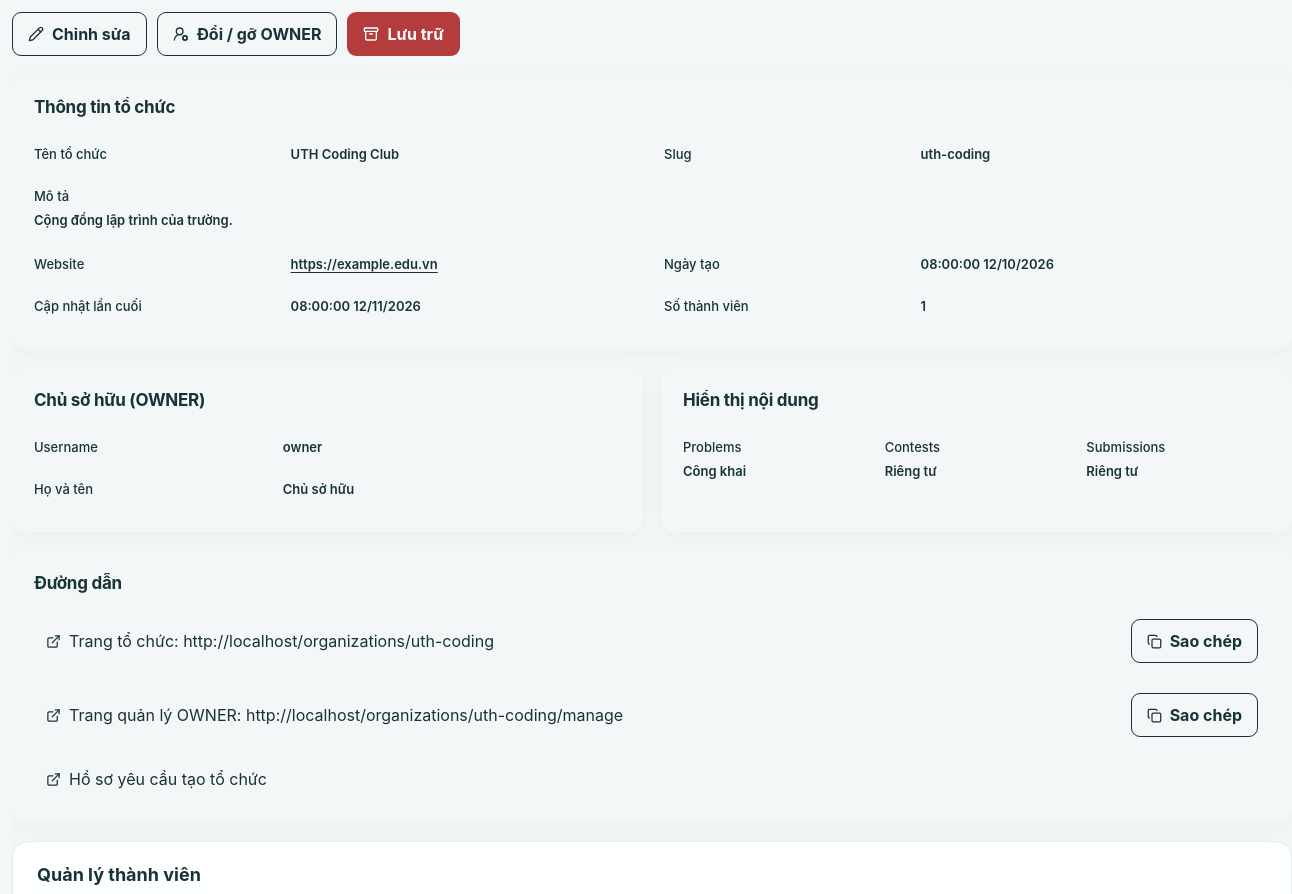
Test case: AdminOrganizationDetailPage › renders organization data and sections without the specified header and guidance text
Expected: the heading "Thông tin tổ chức" is shown, [34, 97, 175, 117]
Click the button "Sao chép" in the row of "Trang tổ chức": (1194, 641) [1131, 619, 1258, 663]
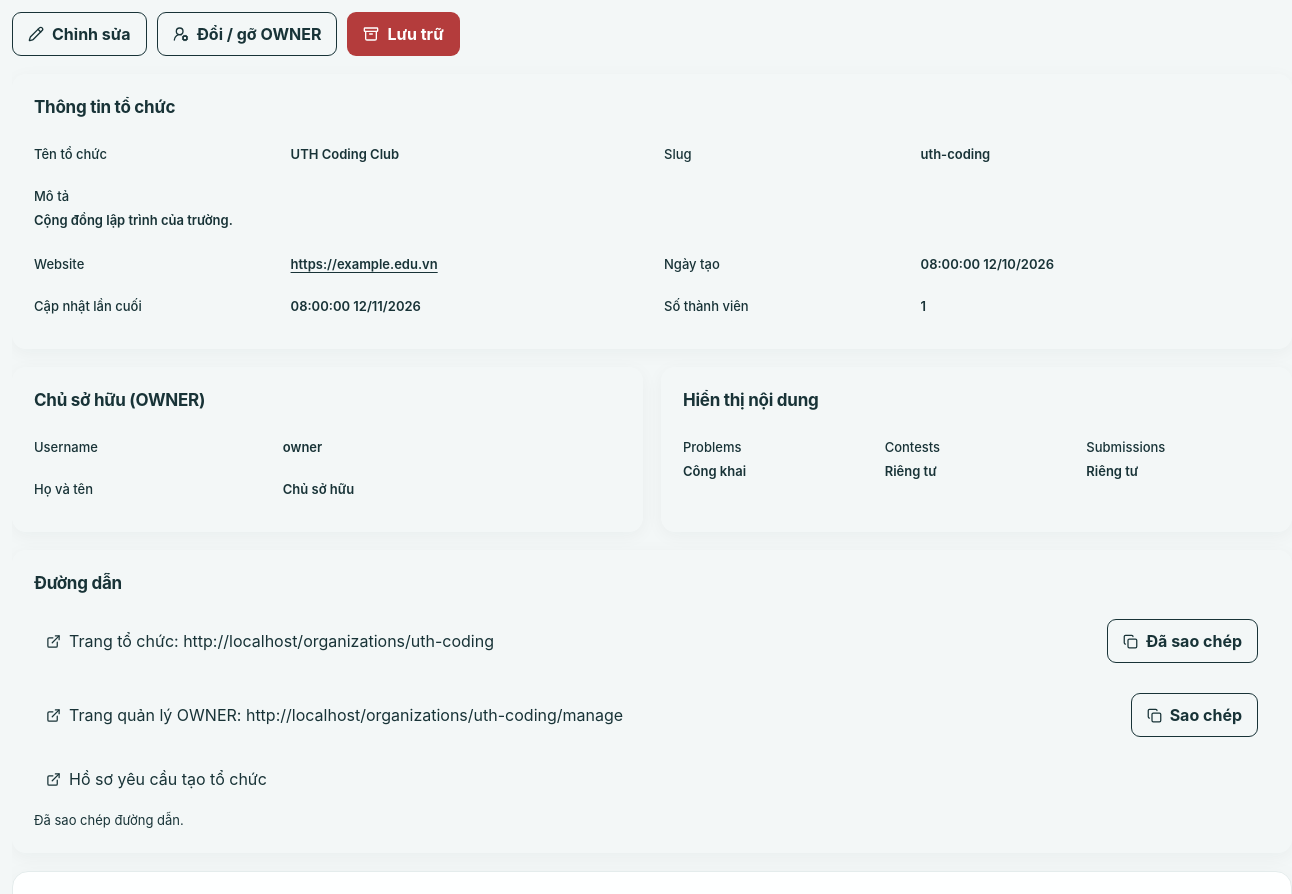
Now the text "Đã sao chép đường dẫn." is shown, box [34, 812, 184, 828]
